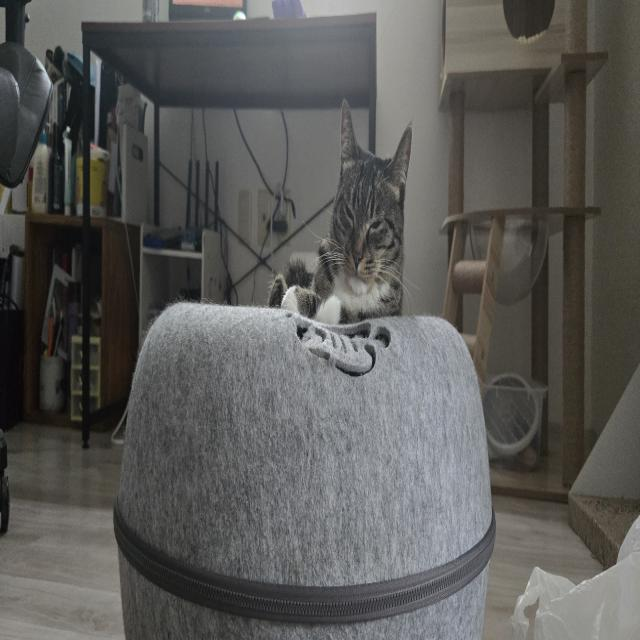cat: (278, 104, 413, 318)
